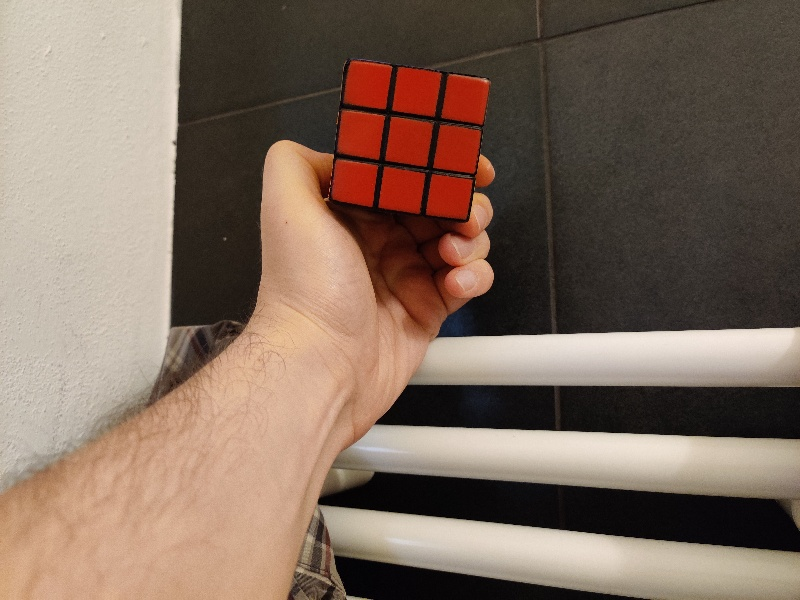rubik: (328, 62, 490, 222)
